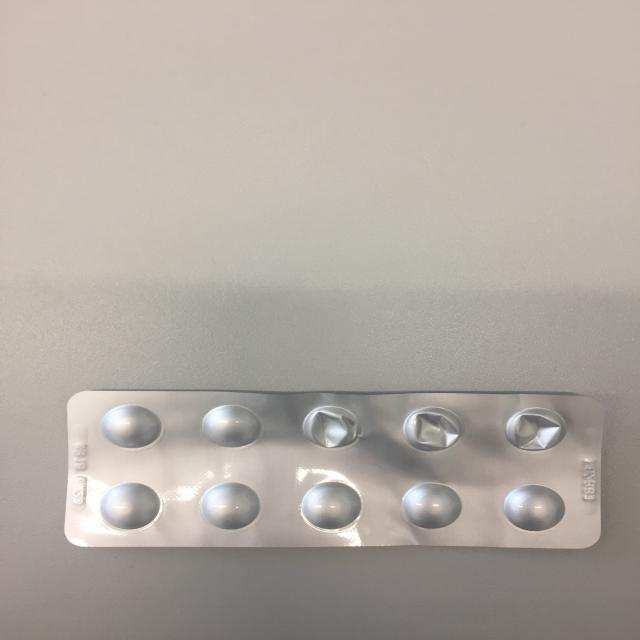Empty: (502, 403, 571, 457), (398, 404, 466, 454), (298, 405, 366, 452)
Pill: (94, 480, 168, 535), (91, 402, 169, 454), (297, 479, 370, 532), (501, 481, 570, 535), (397, 480, 468, 532), (195, 479, 266, 531), (193, 401, 264, 452)
